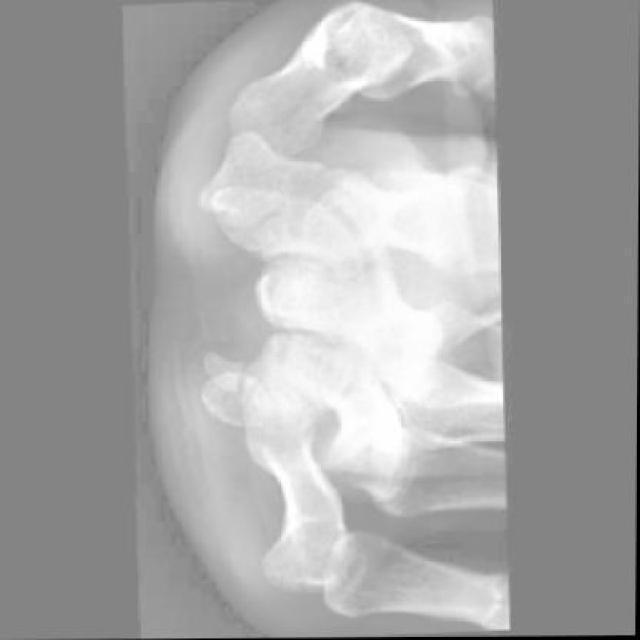Fracture: (220, 351, 262, 407)
